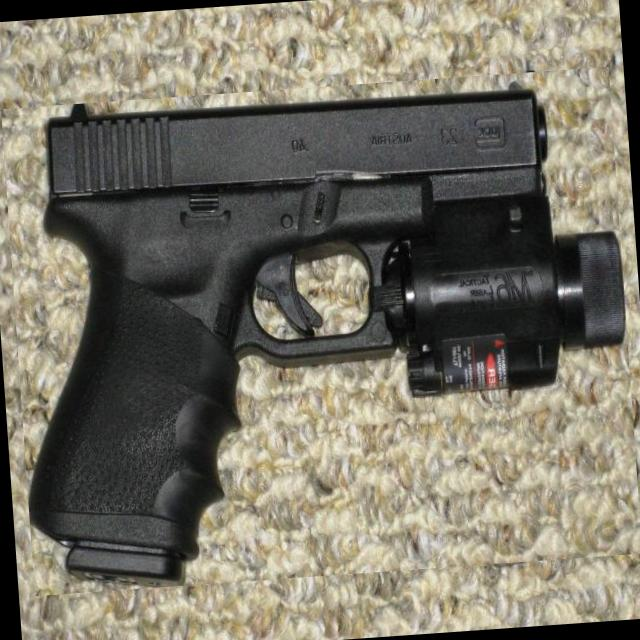Gun: (28, 87, 625, 586)
